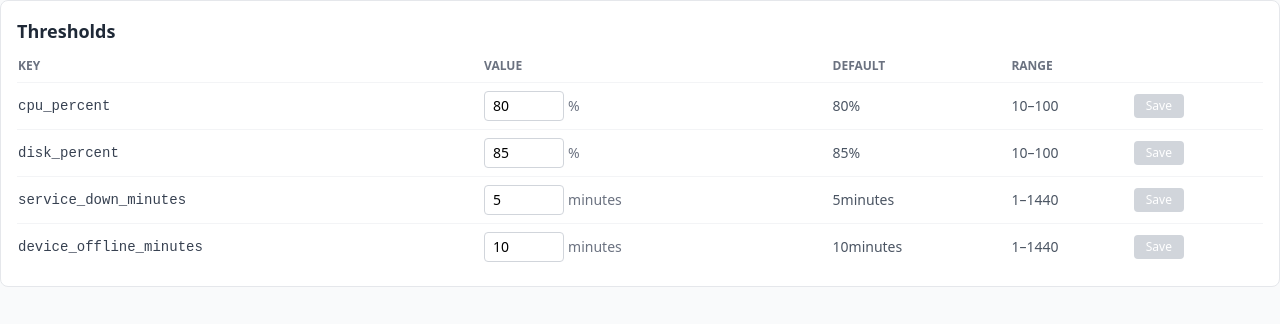
Test case: ThresholdForm › shows an inline error when the API returns a 400
Expected: the text "cpu_percent" is shown, left=17, top=82, right=483, bottom=130
Replace the text in the number field named "value for cpu_percent" with "95" at (524,106), box left=484, top=91, right=564, bottom=121
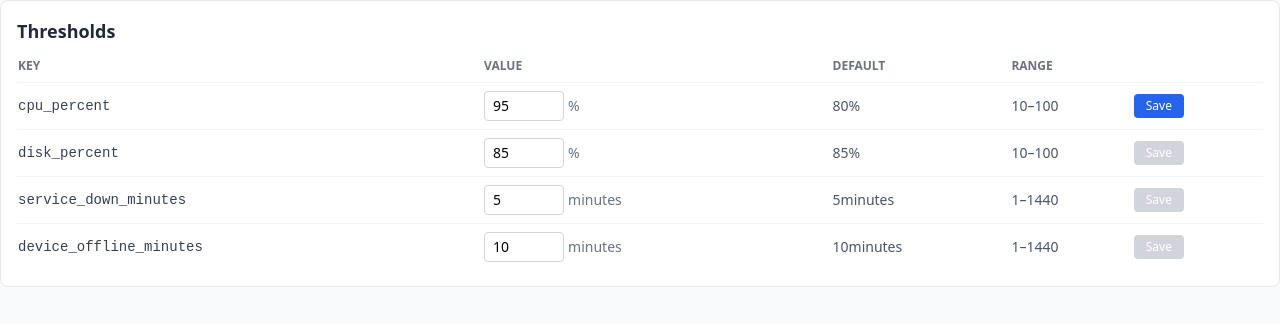
Click the button "Save" in the row of "cpu_percent" at (1159,106), box left=1134, top=94, right=1184, bottom=118
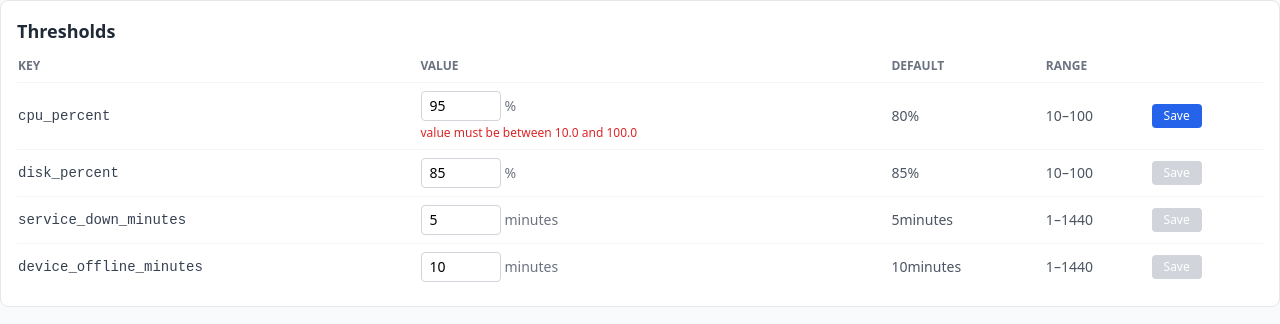
Expected: the text "value must be between 10.0 and 100.0" is shown, left=420, top=124, right=637, bottom=141
